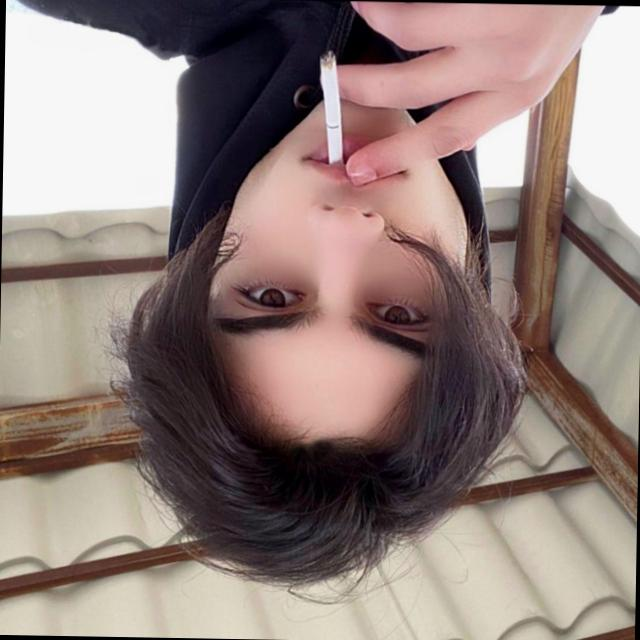smoke: (302, 46, 358, 176)
